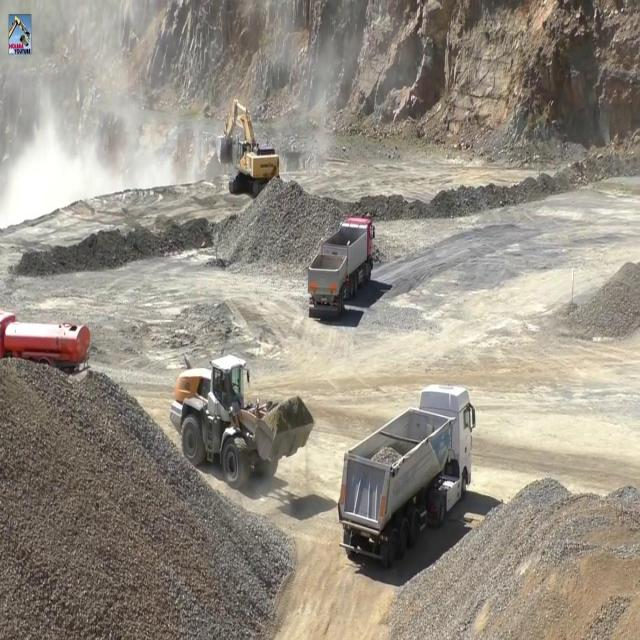Dump Truck: (337, 380, 475, 568), (305, 213, 377, 319), (0, 311, 90, 378)
Excavator: (214, 97, 279, 197)
Loader: (169, 350, 315, 487)
